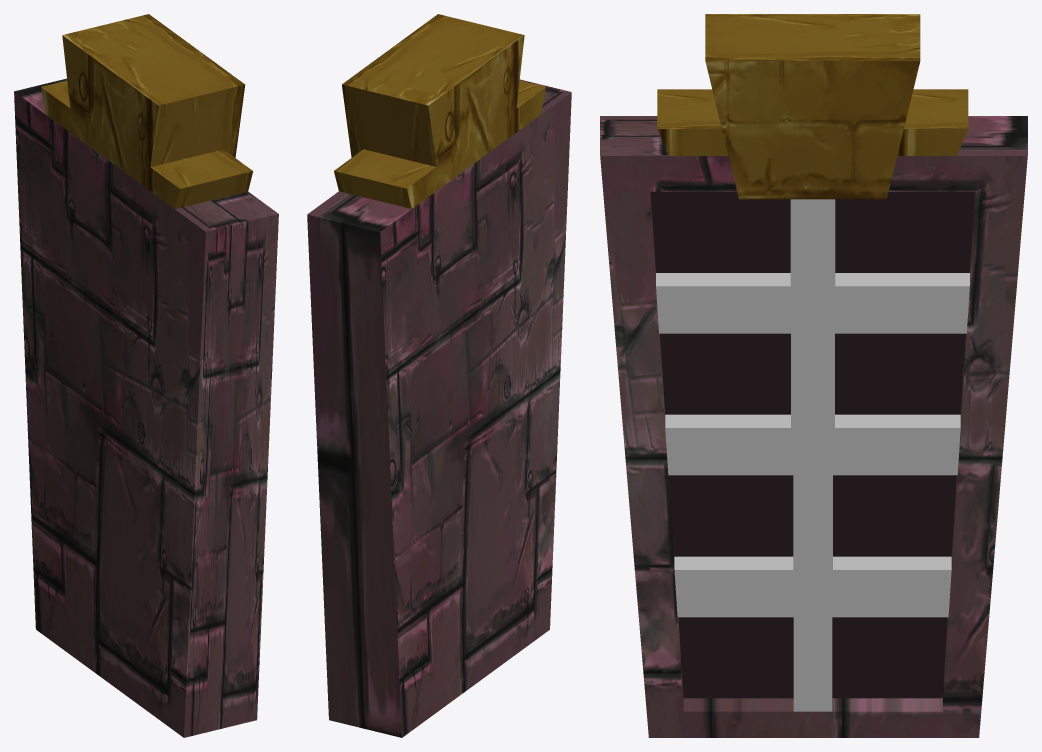
Rendered from factoryWindow.fbx.
3 renders of one model, left to right at view 1: azimuth 30°, elevation 25°; view 2: azimuth 150°, elevation 25°; view 3: azimuth 270°, elevation 25°, orthographic. The views are drawn at different scales.
Parts seen in each view (by area): view 1: pCube1; view 2: pCube1; view 3: pCube1.
Boxes of the visible parts, left/top/right/bottom form: pCube1: left=14, top=14, right=278, bottom=737; pCube1: left=307, top=14, right=571, bottom=737; pCube1: left=600, top=14, right=1027, bottom=737.
Size of the model in its own units: 1.19 by 8.02 by 4.54.
